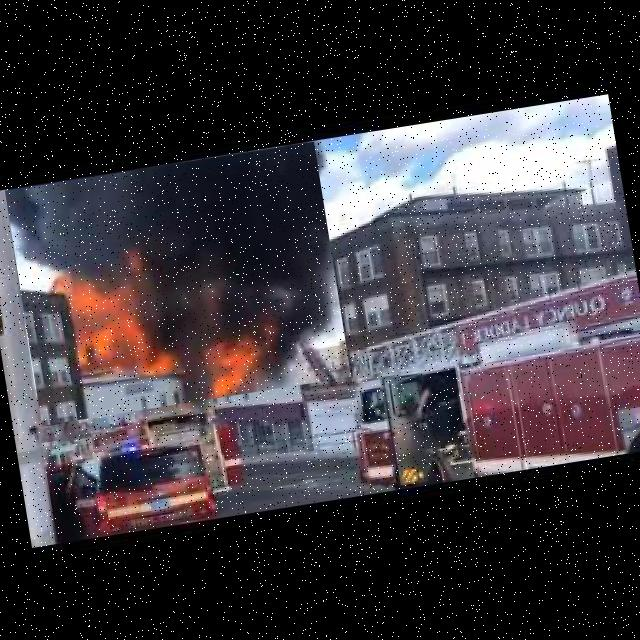fire: (5, 142, 351, 426)
